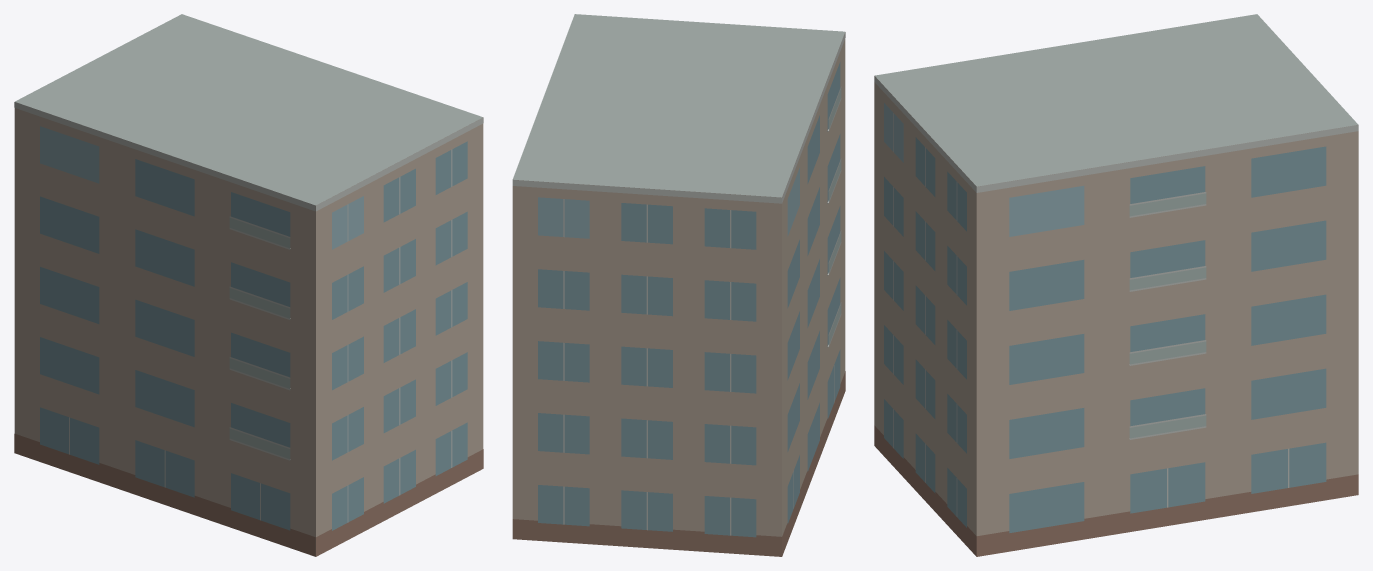
The model's file is survey-upis-32639229.glb.
3 views of the same model, side by side, from view 1: azimuth 30°, elevation 25°; view 2: azimuth 150°, elevation 25°; view 3: azimuth 270°, elevation 25° (orthographic). The views are drawn at different scales.
Visible parts, largest first — view 1: survey-upis-32639229.tmp; view 2: survey-upis-32639229.tmp; view 3: survey-upis-32639229.tmp.
Boxes of the visible parts, box(x1,y1,x2,y2) form: survey-upis-32639229.tmp: box(14, 14, 483, 556); survey-upis-32639229.tmp: box(512, 14, 845, 556); survey-upis-32639229.tmp: box(874, 14, 1358, 556).
Bounding box in the file's own units: 14.21 × 14.2 × 16.84.
